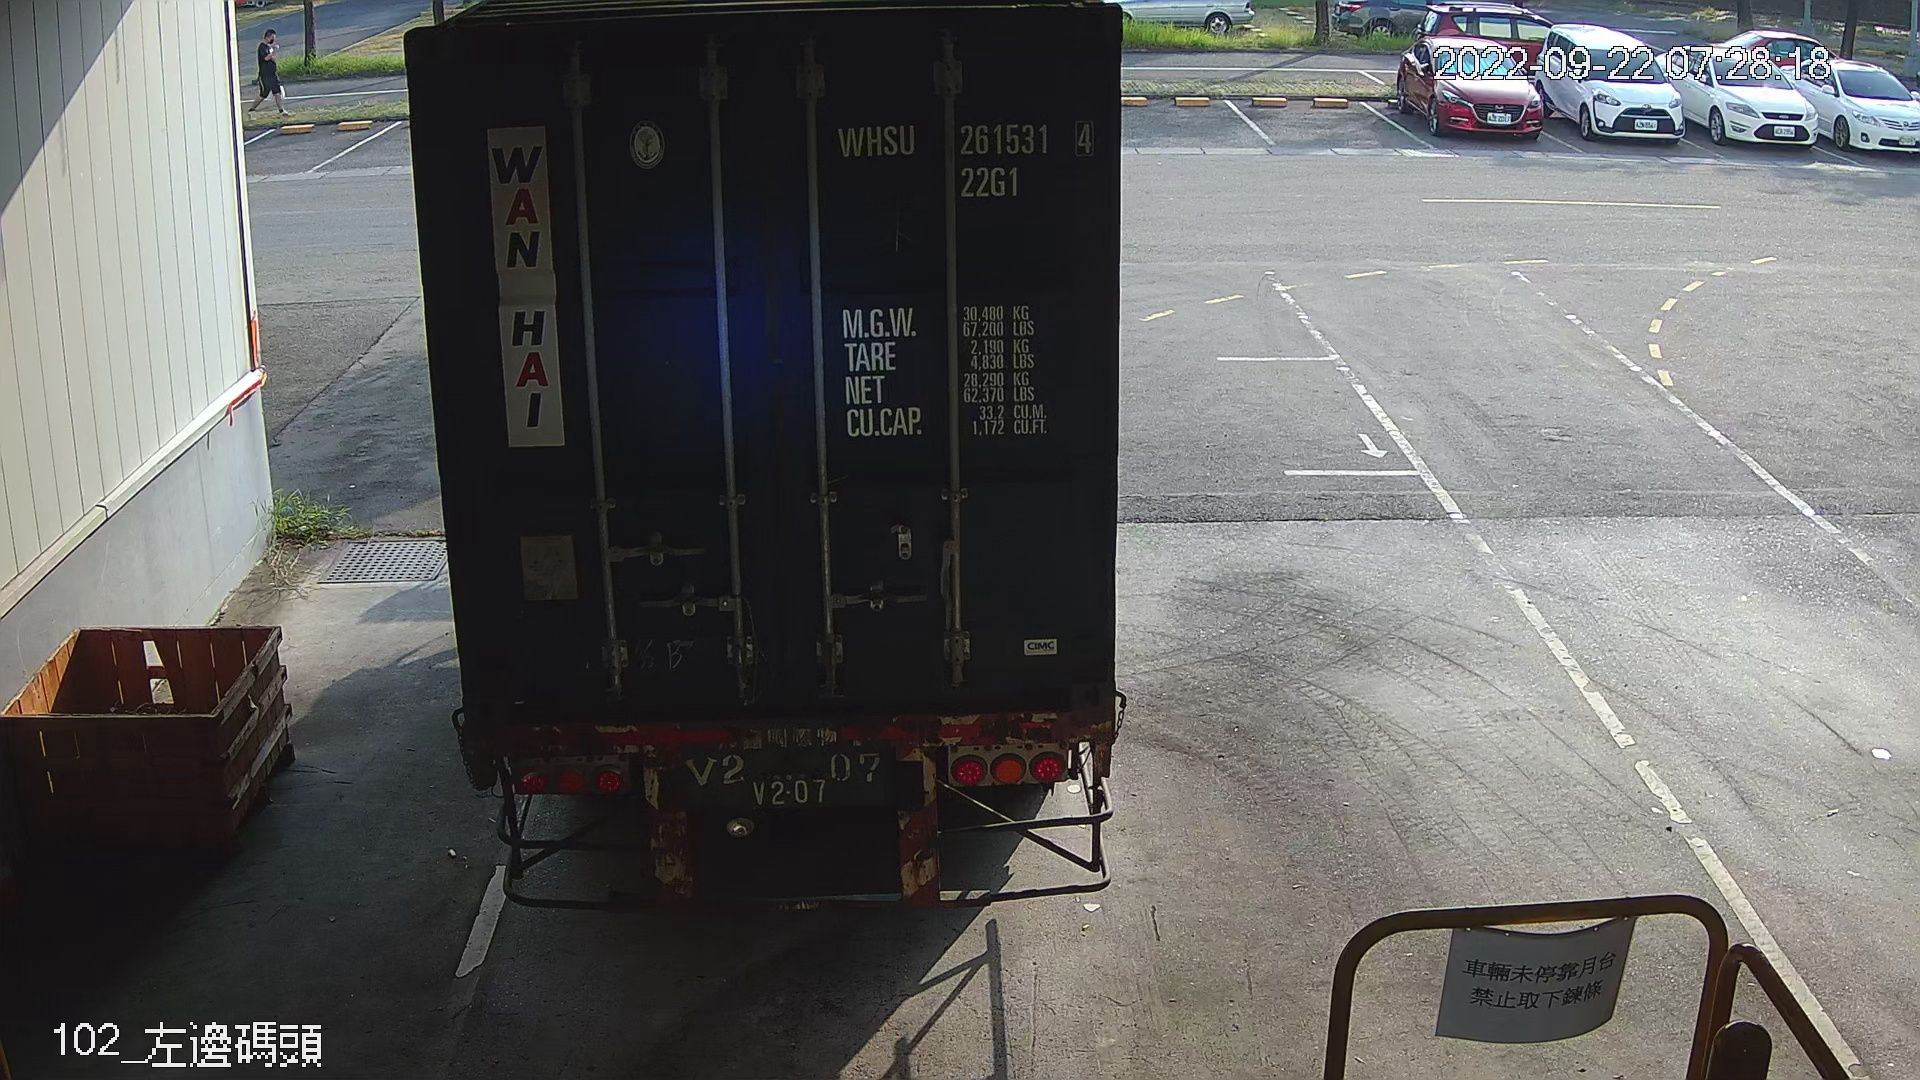container: (829, 109, 1104, 204)
